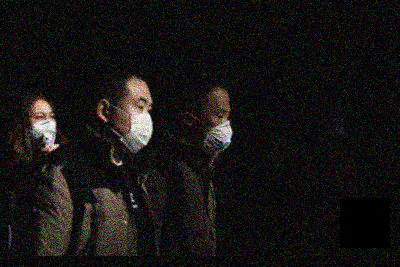with_mask: (119, 95, 154, 153), (202, 104, 232, 153), (30, 109, 58, 150)
